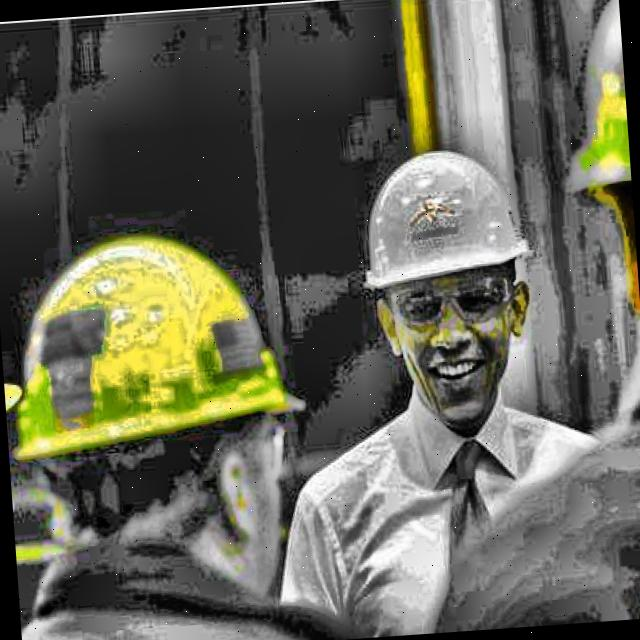helmet: (0, 214, 349, 610), (330, 110, 552, 434)
